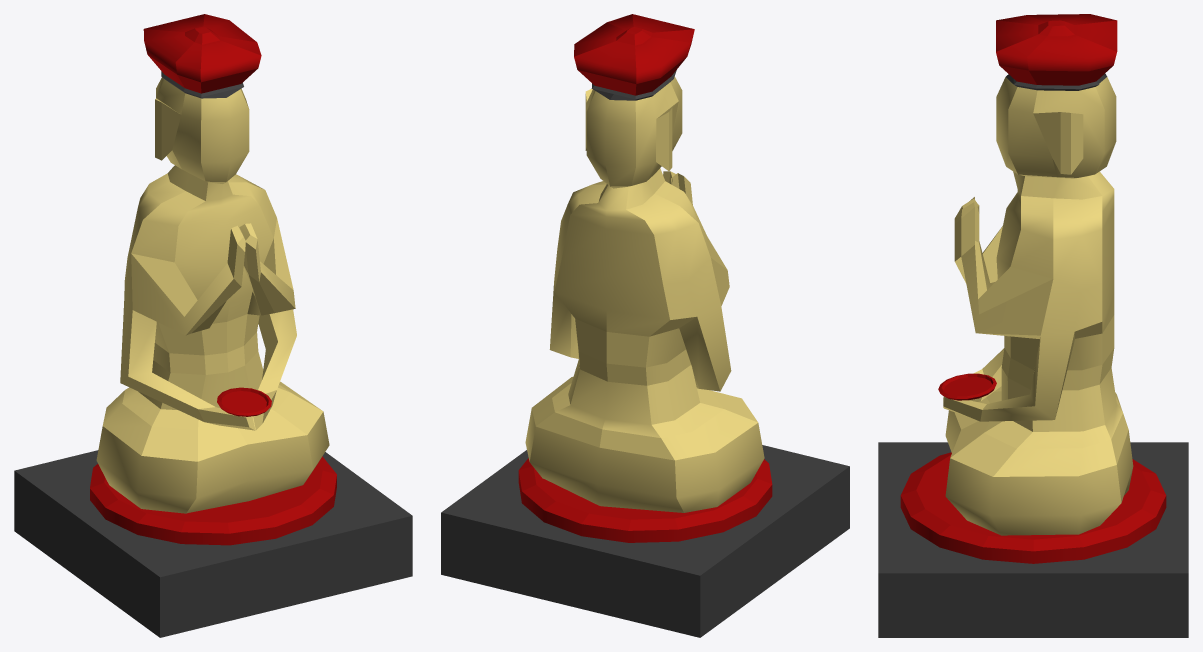
Rendered from GoldenStatue 1.fbx.
3 views of the same model, side by side, from view 1: azimuth 30°, elevation 25°; view 2: azimuth 150°, elevation 25°; view 3: azimuth 270°, elevation 25° (orthographic). The views are drawn at different scales.
Parts seen in each view (by area): view 1: pCube2, pCube1, pCylinder1, pCylinder2; view 2: pCube2, pCube1, pCylinder1; view 3: pCube2, pCube1, pCylinder1, pCylinder2.
Part boxes in pixels (x1,y1,x2,y2): pCube2: [96, 14, 329, 513]; pCube1: [14, 450, 412, 637]; pCylinder1: [90, 456, 336, 545]; pCylinder2: [217, 387, 271, 416]; pCube2: [525, 14, 764, 512]; pCube1: [441, 445, 849, 637]; pCylinder1: [518, 458, 772, 542]; pCube2: [943, 14, 1133, 535]; pCube1: [878, 442, 1188, 637]; pCylinder1: [900, 452, 1166, 563]; pCylinder2: [938, 373, 996, 400].
Bounding box in the file's own units: 8.19 × 15.98 × 8.19.
